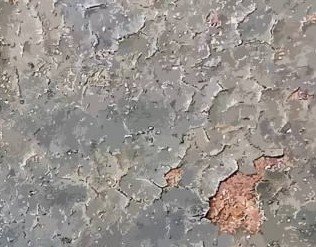Corrosion: (204, 153, 284, 234), (163, 166, 185, 189)
